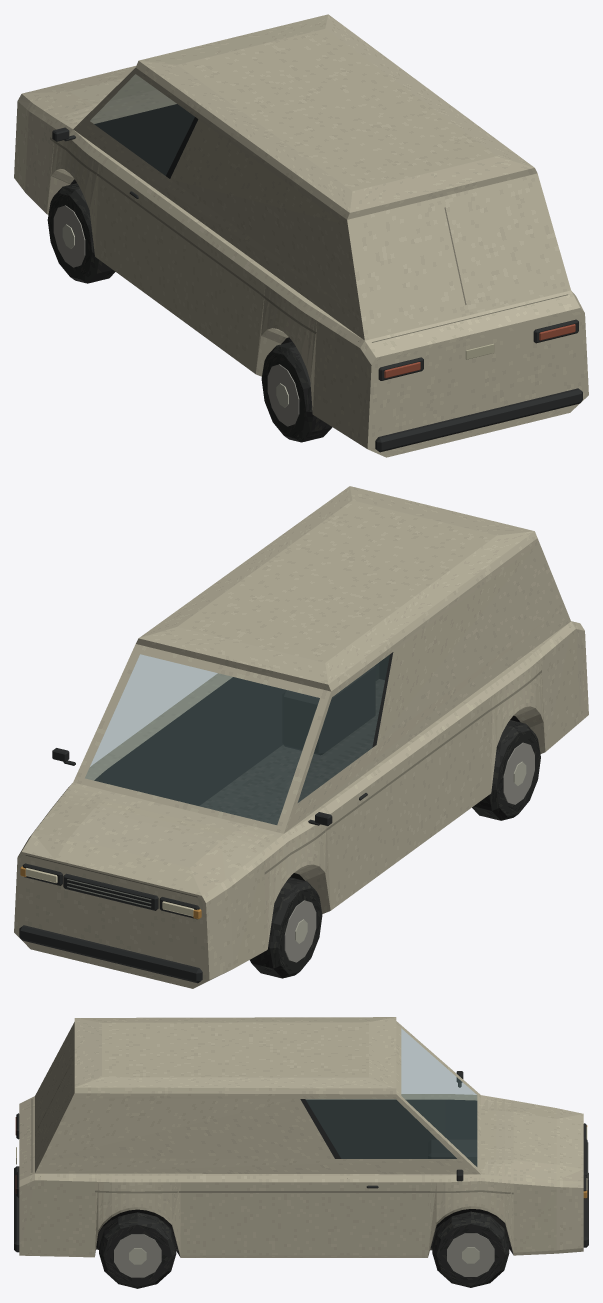
File: vehicle_cargo_van.glb
3 renders of one model, top to bottom at view 1: azimuth 30°, elevation 25°; view 2: azimuth 150°, elevation 25°; view 3: azimuth 270°, elevation 25°, orthographic. The views are drawn at different scales.
Parts seen in each view (by area): view 1: closed_body, roof_body, glazing; view 2: closed_body, roof_body, glazing; view 3: closed_body, roof_body, glazing.
Part boxes in pixels (bbox=[...]): closed_body: bbox=[14, 66, 588, 457]; roof_body: bbox=[136, 14, 537, 219]; glazing: bbox=[90, 74, 194, 175]; closed_body: bbox=[14, 538, 588, 988]; roof_body: bbox=[136, 486, 537, 691]; glazing: bbox=[85, 654, 389, 824]; closed_body: bbox=[14, 1021, 588, 1288]; roof_body: bbox=[74, 1017, 396, 1094]; glazing: bbox=[305, 1029, 477, 1166].
Size of the model in its own units: 2.23 by 1.97 by 5.21.
Materials: 2 (2 with a texture image).
